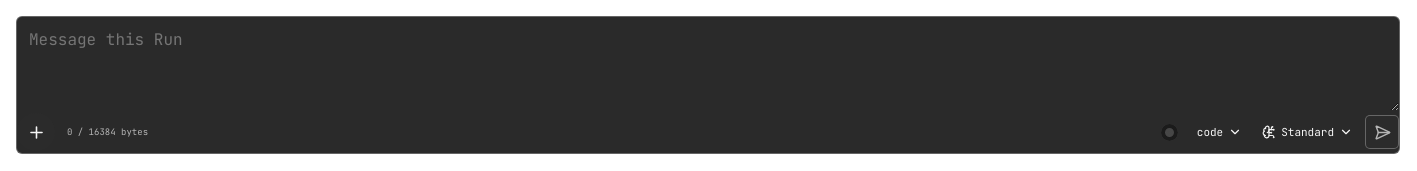
Test: SessionComposer › reuses an in-memory operation key after uncertain failure and clears on success
Type "Review the latest diff" into the text box named "Message current Run" at (708, 64), box [17,17,1399,111]
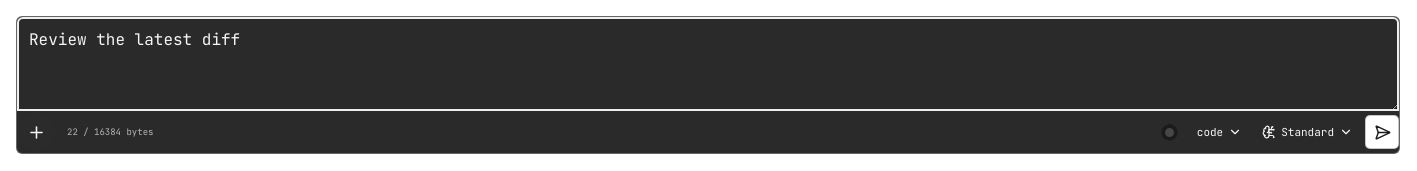
Click the button named "Queue message" at (1382, 132), box [1365,115,1399,149]
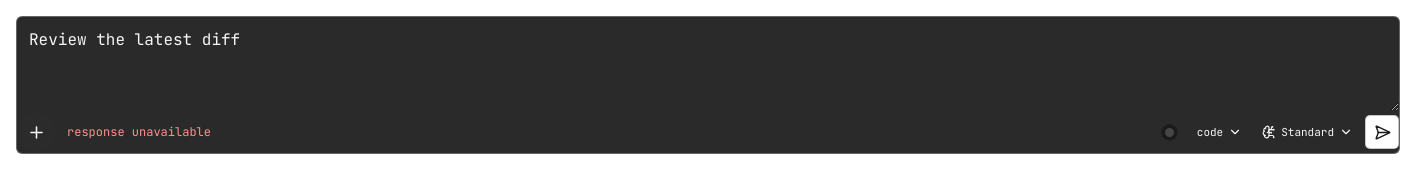
Now the text "response unavailable" is shown, box [67,124,211,140]
Click the button named "Queue message" at (1382, 132), box [1365,115,1399,149]
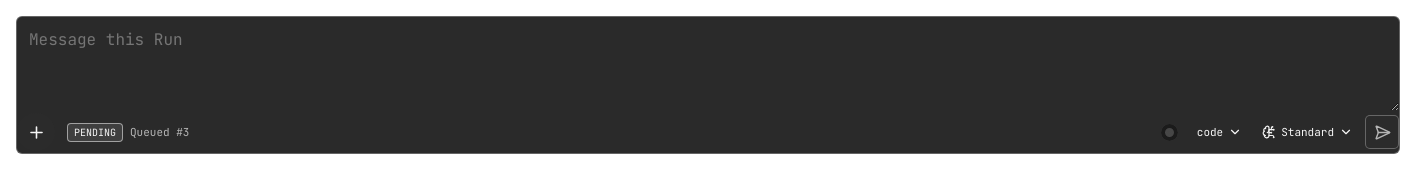
Now the text "Queued #3" is shown, box [130,125,189,139]
Now the text box named "Message current Run" is empty, box [17,17,1399,111]
